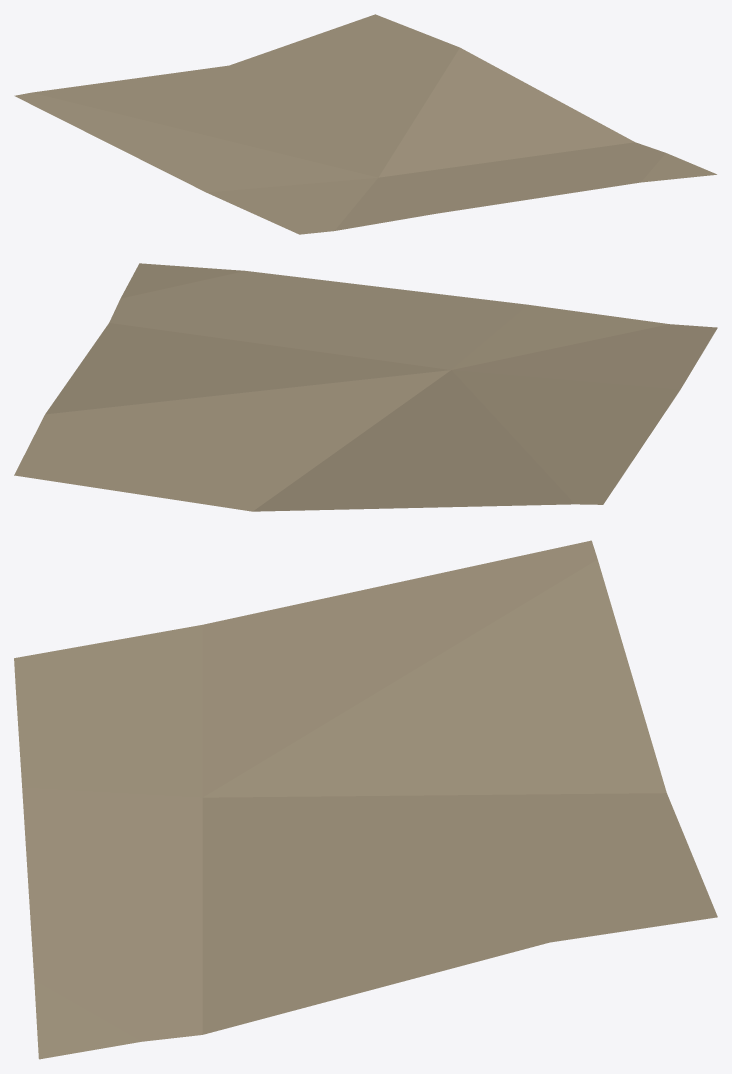
File: farm_-28_-30_soil.glb
3 views of the same model, one above another, from view 1: azimuth 30°, elevation 25°; view 2: azimuth 150°, elevation 25°; view 3: azimuth 270°, elevation 25° (orthographic). The views are drawn at different scales.
Parts seen in each view (by area): view 1: geometry_0; view 2: geometry_0; view 3: geometry_0.
Boxes of the visible parts, x1,y1,x2,y2 form: geometry_0: [14, 14, 716, 234]; geometry_0: [14, 263, 717, 511]; geometry_0: [14, 540, 717, 1059].
Size of the model in its own units: 139 by 19.5 by 104.
